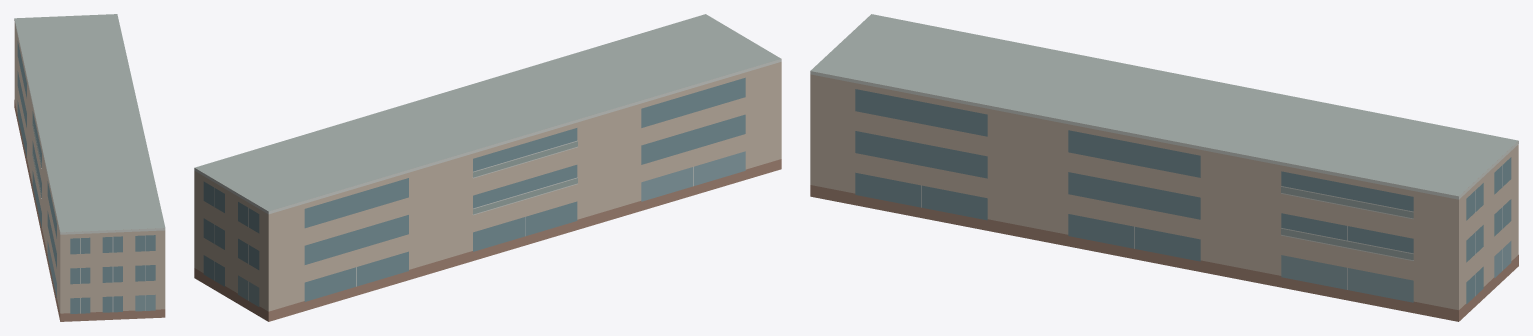
Rendered from survey-upis-32758311.glb.
3 views of the same model, side by side, from view 1: azimuth 30°, elevation 25°; view 2: azimuth 150°, elevation 25°; view 3: azimuth 270°, elevation 25° (orthographic). The views are drawn at different scales.
Visible parts, largest first — view 1: survey-upis-32758311.tmp; view 2: survey-upis-32758311.tmp; view 3: survey-upis-32758311.tmp.
Boxes of the visible parts, left/top/right/bottom form: survey-upis-32758311.tmp: left=14, top=14, right=165, bottom=321; survey-upis-32758311.tmp: left=194, top=14, right=781, bottom=321; survey-upis-32758311.tmp: left=810, top=14, right=1518, bottom=321.
Bounding box in the file's own units: 28.51 × 9.15 × 46.81.
